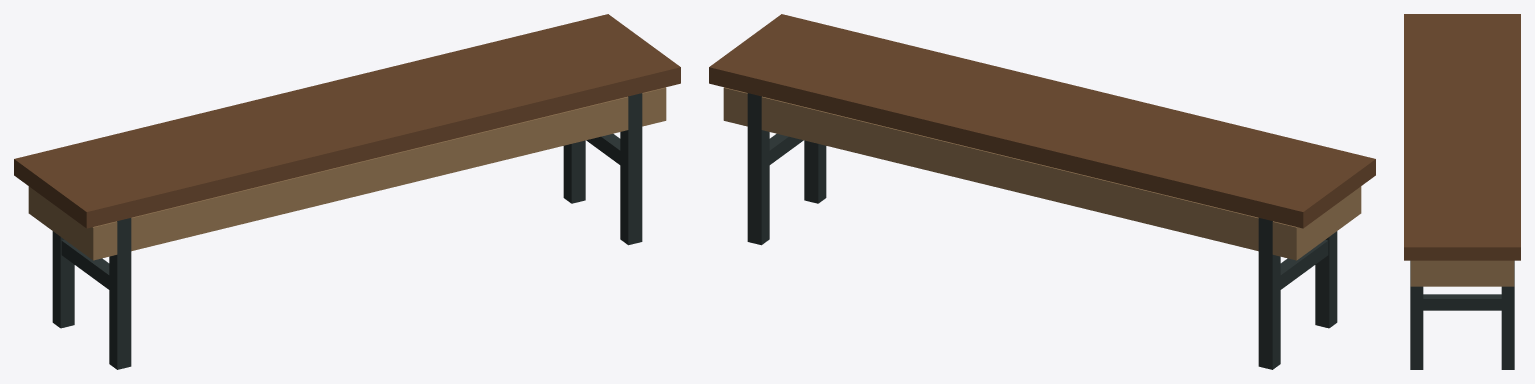
The model's file is canteen_bench.glb.
3 views of the same model, side by side, from view 1: azimuth 30°, elevation 25°; view 2: azimuth 150°, elevation 25°; view 3: azimuth 270°, elevation 25° (orthographic). The views are drawn at different scales.
Parts seen in each view (by area): view 1: canteen_bench; view 2: canteen_bench; view 3: canteen_bench.
Boxes of the visible parts, left/top/right/bottom form: canteen_bench: left=14, top=14, right=680, bottom=369; canteen_bench: left=709, top=14, right=1375, bottom=369; canteen_bench: left=1404, top=14, right=1520, bottom=369.
Size of the model in its own units: 1.7 by 0.4625 by 0.36.
